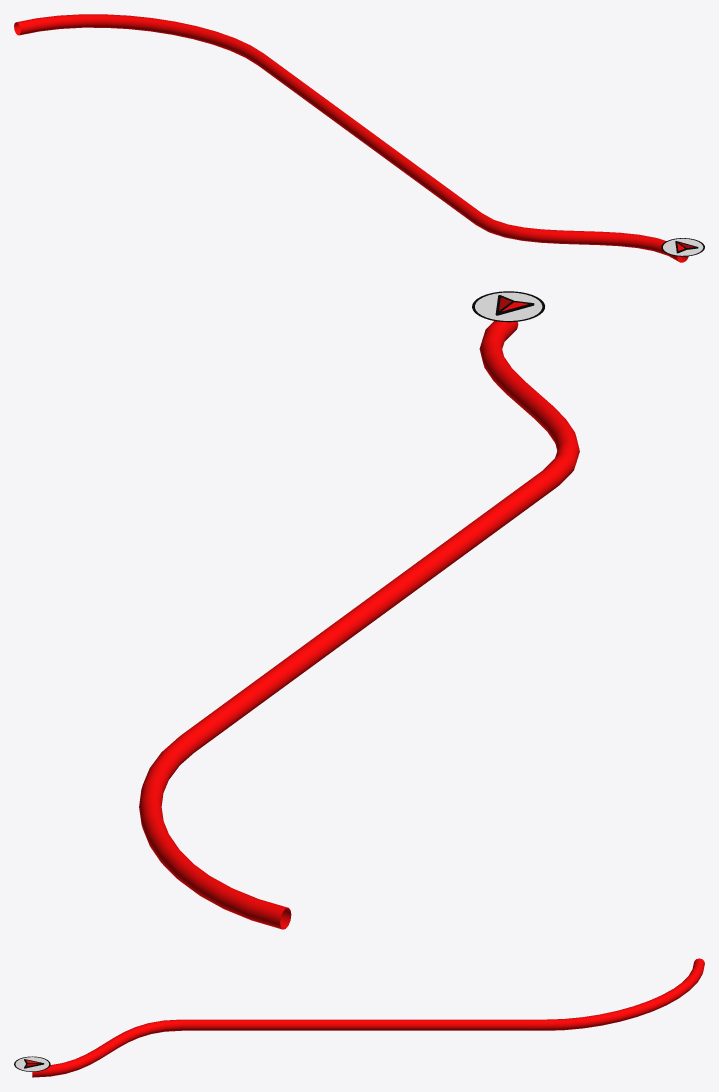
The model's file is route_89df35c7-5984-41ef-baf0-3c09274292ef_de_single.glb.
The picture shows the model from 3 angles, top to bottom: view 1: azimuth 30°, elevation 25°; view 2: azimuth 150°, elevation 25°; view 3: azimuth 270°, elevation 25°; orthographic projection. The views are drawn at different scales.
Visible parts, largest first — view 1: Schlagwerkzeuge abteilung, Navipfeil.059; view 2: Schlagwerkzeuge abteilung, Navipfeil.059; view 3: Schlagwerkzeuge abteilung, Navipfeil.059.
Part boxes in pixels (bbox=[...]): Schlagwerkzeuge abteilung: bbox=[14, 14, 688, 262]; Navipfeil.059: bbox=[661, 238, 704, 256]; Schlagwerkzeuge abteilung: bbox=[139, 321, 579, 929]; Navipfeil.059: bbox=[472, 291, 544, 322]; Schlagwerkzeuge abteilung: bbox=[32, 958, 704, 1077]; Navipfeil.059: bbox=[14, 1056, 50, 1071].
Size of the model in its own units: 1.94 by 0.1062 by 4.89.
